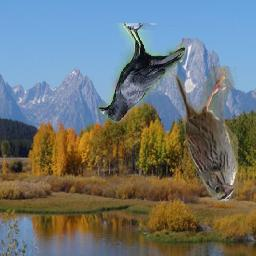Crow: (99, 23, 186, 123)
Sparrow: (172, 66, 238, 202)
